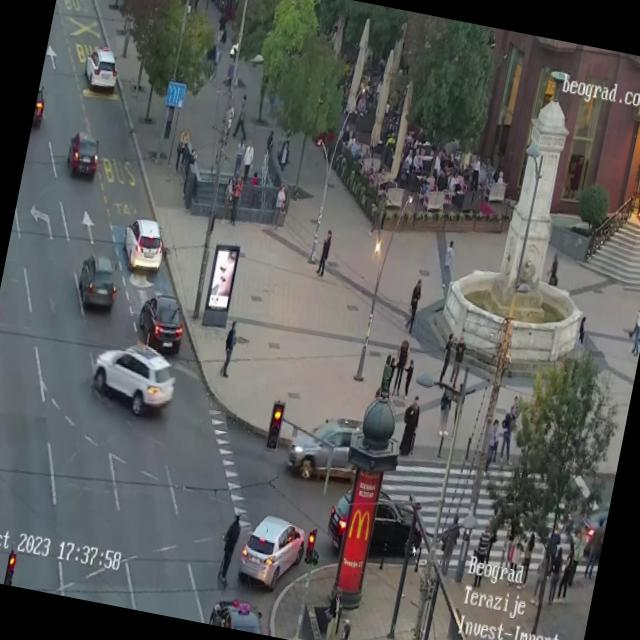car: (323, 480, 429, 567), (87, 334, 182, 422), (234, 510, 310, 596), (284, 412, 365, 490), (133, 289, 190, 356), (74, 250, 124, 314), (118, 215, 169, 276), (208, 594, 266, 634), (80, 42, 122, 94), (64, 130, 104, 182), (577, 506, 609, 560), (32, 82, 49, 128)
